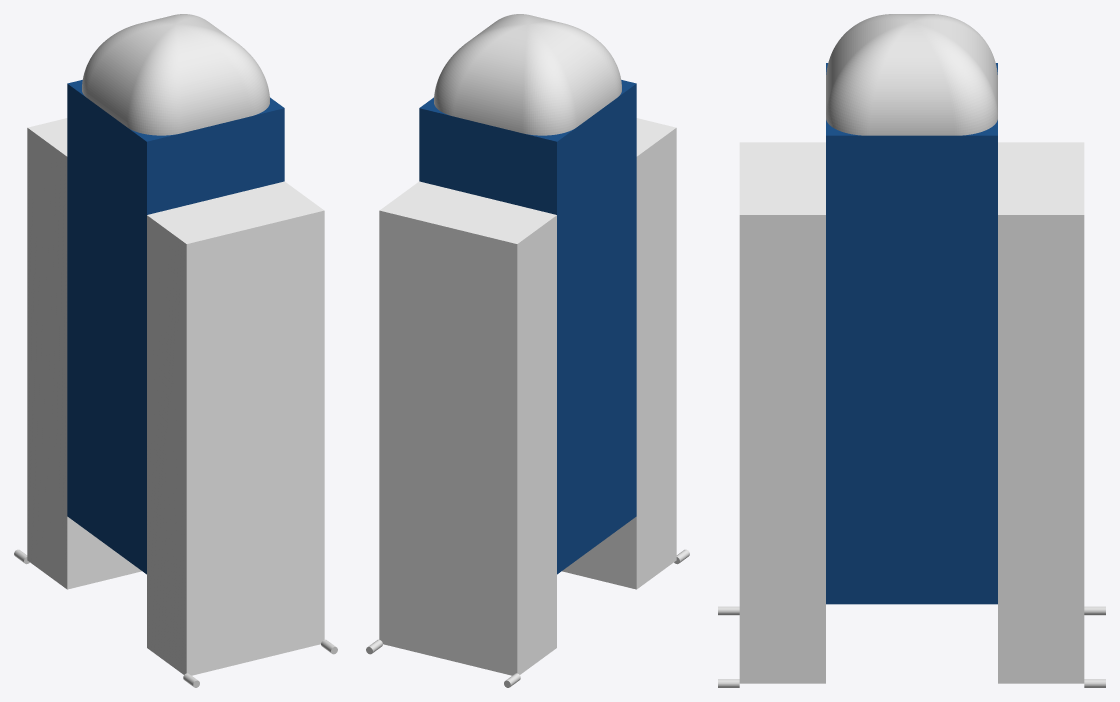
The model's file is body_certo.dae.
The picture shows the model from 3 angles, left to right: view 1: azimuth 30°, elevation 25°; view 2: azimuth 150°, elevation 25°; view 3: azimuth 270°, elevation 25°; orthographic projection. The views are drawn at different scales.
Visible parts, largest first — view 1: Part 1 (×4); view 2: Part 1 (×4); view 3: Part 1 (×4).
Boxes of the visible parts, x1=… form: Part 1 (×4): x1=27, y1=14, x2=324, y2=675; Part 1 (×4): x1=379, y1=14, x2=676, y2=675; Part 1 (×4): x1=739, y1=14, x2=1084, y2=683.
Bounding box in the file's own units: 0.21 × 0.45 × 0.8056.
